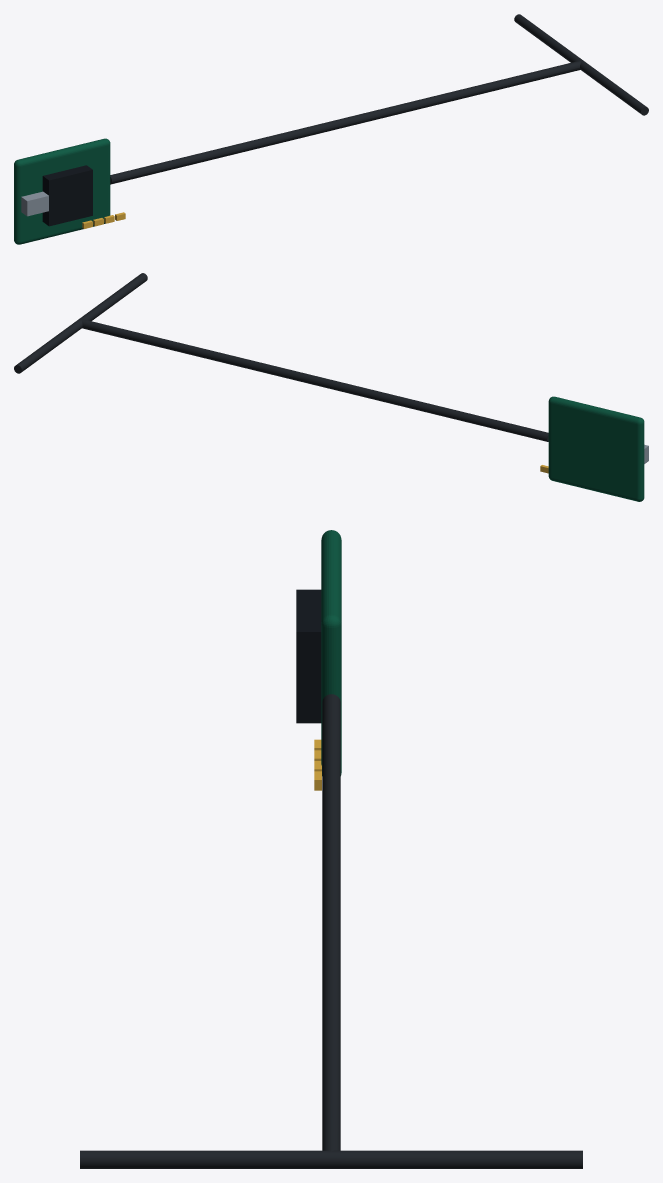
Rendered from radiomaster-rp1-v2.glb.
3 views of the same model, one above another, from view 1: azimuth 30°, elevation 25°; view 2: azimuth 150°, elevation 25°; view 3: azimuth 270°, elevation 25° (orthographic). The views are drawn at different scales.
Parts seen in each view (by area): view 1: RadioMaster_RP1_V2_ELRS_2_4GHz; view 2: RadioMaster_RP1_V2_ELRS_2_4GHz; view 3: RadioMaster_RP1_V2_ELRS_2_4GHz.
Part boxes in pixels (left/top/right/bottom): RadioMaster_RP1_V2_ELRS_2_4GHz: left=14, top=14, right=648, bottom=244; RadioMaster_RP1_V2_ELRS_2_4GHz: left=14, top=273, right=648, bottom=501; RadioMaster_RP1_V2_ELRS_2_4GHz: left=80, top=530, right=582, bottom=1168.
Size of the model in its own units: 0.0781 by 0.011 by 0.03.
